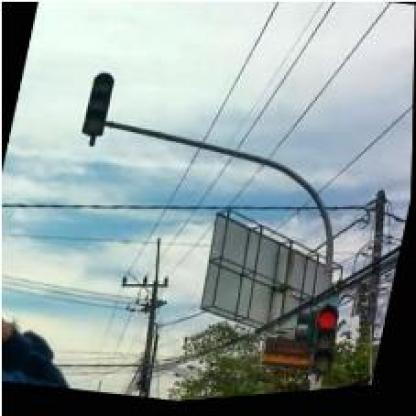red: (308, 304, 344, 381)
yellow: (77, 70, 114, 139)
